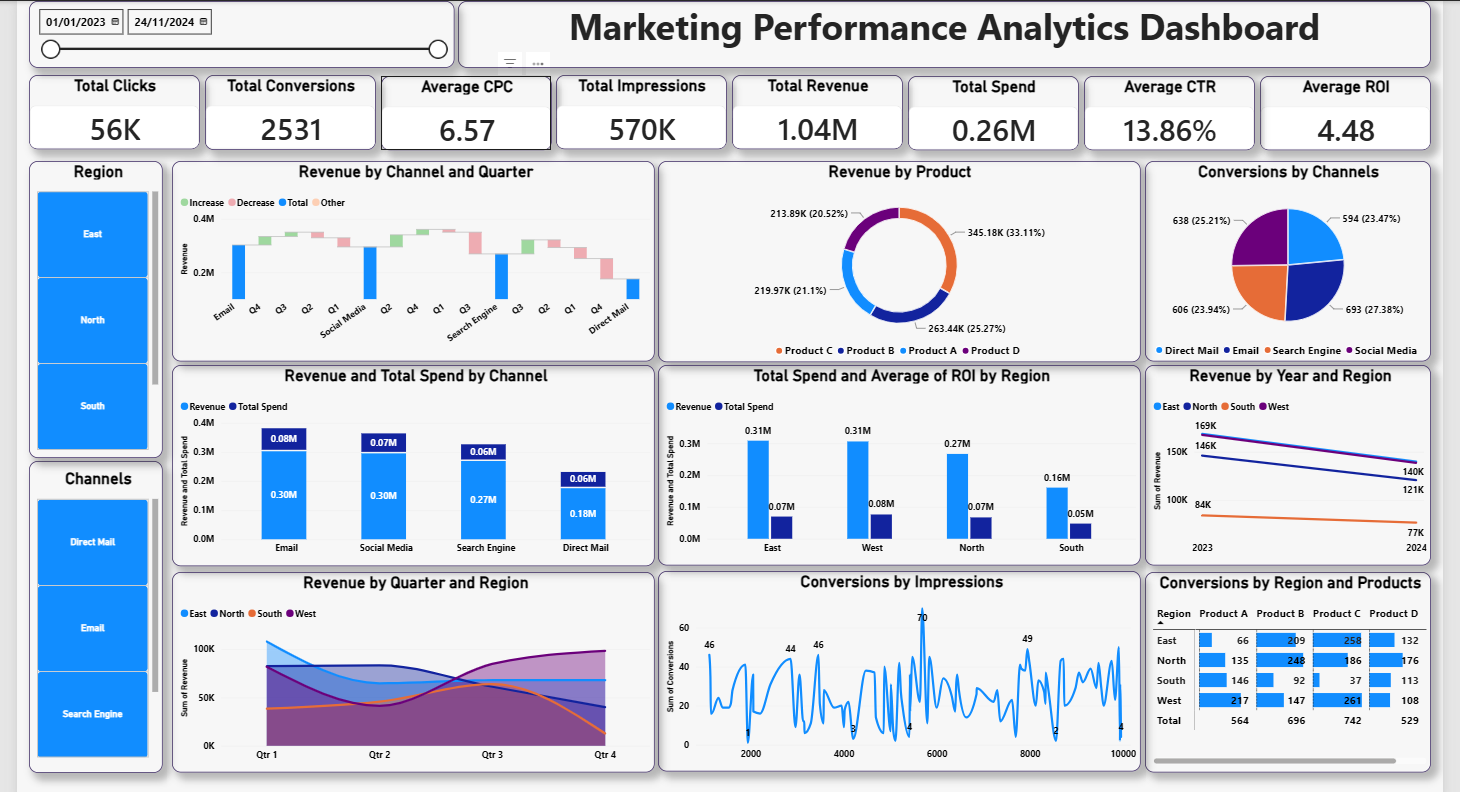

Layout of this report page (visuals, bound fields, positions):
{"tool":"powerbi","page":{"name":"Revenue Dashboard","canvas":[1920,1080],"ordinal":0},"visuals":[{"type":"cardVisual","title":"Total Clicks","fields":{"Data":["Sum(Sheet1.Clicks)"]},"box":[16,99.2,230,100],"z":0},{"type":"cardVisual","title":"Total Conversions","fields":{"Data":["Sum(Sheet1.Conversions)"]},"box":[252.8,99.2,230,100.7],"z":1000},{"type":"cardVisual","title":"Average CPC","fields":{"Data":["Avg(Sheet1.CPC)"]},"box":[489.6,100.7,230,100],"z":2000},{"type":"cardVisual","title":"Total Impressions","fields":{"Data":["Sum(Sheet1.Impressions)"]},"box":[726.4,99.2,230,100],"z":3000},{"type":"cardVisual","title":"Total Revenue","fields":{"Data":["Sum(Sheet1.Revenue)"]},"box":[963.1,99.2,230,100],"z":4000},{"type":"cardVisual","title":"Total Spend","fields":{"Data":["Sum(Sheet1.Spend)"]},"box":[1199.9,100.7,230,100],"z":5000},{"type":"cardVisual","title":"Average ROI","fields":{"Data":["Avg(Sheet1.ROI)"]},"box":[1673.4,100.7,230,100],"z":6000},{"type":"cardVisual","title":"Average CTR","fields":{"Data":["Avg(Sheet1.CTR)"]},"box":[1436.7,100.7,230,100],"z":7000},{"type":"textbox","box":[593.8,0,1310.2,90.5],"z":8000},{"type":"slicer","fields":{"Values":["Sheet1.Date"]},"box":[16,0,573.4,90.5],"z":9000},{"type":"waterfallChart","title":"Revenue by Channel and Quarter","fields":{"Breakdown":["Sheet1.Quarter"],"Category":["Sheet1.Marketing_Channel"],"Y":["Sum(Sheet1.Revenue)"]},"box":[208.6,215.9,650,270],"z":10000},{"type":"donutChart","title":"Revenue by Product","fields":{"Category":["Sheet1.Product"],"Y":["Sum(Sheet1.Revenue)"]},"box":[863.1,215.5,650,270.7],"z":11000},{"type":"columnChart","fields":{"Category":["Sheet1.Marketing_Channel"],"Y":["Sum(Sheet1.Revenue)","Sum(Sheet1.Spend)"]},"box":[208.7,490.2,650.4,270.7],"z":12000},{"type":"clusteredColumnChart","title":"Total Spend and Average of ROI by Region","fields":{"Category":["Sheet1.Region"],"Y":["Sum(Sheet1.Revenue)","Sum(Sheet1.Spend)"]},"box":[863.2,490.2,650,270],"z":13000},{"type":"areaChart","title":"Revenue by Quarter and Region","fields":{"Category":["Sheet1.Date.Variation.Date Hierarchy.Quarter"],"Series":["Sheet1.Region"],"Y":["Sum(Sheet1.Revenue)"]},"box":[208.7,768.9,650,270],"z":14000},{"type":"pieChart","title":"Conversions by Channels","fields":{"Category":["Sheet1.Marketing_Channel"],"Y":["Sum(Sheet1.Conversions)"]},"box":[1519,215.5,385,270],"z":15000},{"type":"pivotTable","title":"Conversions by  Region and Products","fields":{"Columns":["Sheet1.Product"],"Rows":["Sheet1.Region"],"Values":["Sum(Sheet1.Conversions)"]},"box":[1519,768.9,385,270],"z":16000},{"type":"lineChart","title":"Revenue by Year and Region","fields":{"Category":["Sheet1.Date.Variation.Date Hierarchy.Year"],"Series":["Sheet1.Region"],"Y":["Sum(Sheet1.Revenue)"]},"box":[1519,490.2,385.1,270],"z":17000},{"type":"lineChart","title":"Conversions by Impressions","fields":{"Category":["Sheet1.Impressions"],"Y":["Sum(Sheet1.Conversions)"]},"box":[863.2,767.6,650,270],"z":18000},{"type":"advancedSlicerVisual","title":"Channels","fields":{"Values":["Sheet1.Marketing_Channel"]},"box":[16.2,619.5,180,420],"z":19000},{"type":"advancedSlicerVisual","fields":{"Values":["Sheet1.Region"]},"box":[16.2,215.5,180,400],"z":20000}]}

Visuals, with their boxes in screenshot pixels (x1, y1, x2, y2):
"Total Clicks" cardVisual: [left=20, top=74, right=192, bottom=149]
"Total Conversions" cardVisual: [left=197, top=74, right=369, bottom=150]
"Average CPC" cardVisual: [left=374, top=75, right=546, bottom=150]
"Total Impressions" cardVisual: [left=551, top=74, right=724, bottom=149]
"Total Revenue" cardVisual: [left=729, top=74, right=901, bottom=149]
"Total Spend" cardVisual: [left=906, top=75, right=1078, bottom=150]
"Average ROI" cardVisual: [left=1260, top=75, right=1433, bottom=150]
"Average CTR" cardVisual: [left=1083, top=75, right=1255, bottom=150]
textbox: [left=452, top=0, right=1433, bottom=68]
slicer - Sheet1.Date: [left=20, top=0, right=449, bottom=68]
"Revenue by Channel and Quarter" waterfallChart: [left=164, top=162, right=650, bottom=364]
"Revenue by Product" donutChart: [left=654, top=161, right=1140, bottom=364]
columnChart - Sheet1.Marketing_Channel x Sum(Sheet1.Revenue): [left=164, top=367, right=651, bottom=570]
"Total Spend and Average of ROI by Region" clusteredColumnChart: [left=654, top=367, right=1140, bottom=569]
"Revenue by Quarter and Region" areaChart: [left=164, top=576, right=650, bottom=778]
"Conversions by Channels" pieChart: [left=1145, top=161, right=1433, bottom=363]
"Conversions by  Region and Products" pivotTable: [left=1145, top=576, right=1433, bottom=778]
"Revenue by Year and Region" lineChart: [left=1145, top=367, right=1433, bottom=569]
"Conversions by Impressions" lineChart: [left=654, top=575, right=1140, bottom=777]
"Channels" advancedSlicerVisual: [left=20, top=464, right=154, bottom=778]
advancedSlicerVisual - Sheet1.Region: [left=20, top=161, right=154, bottom=461]
